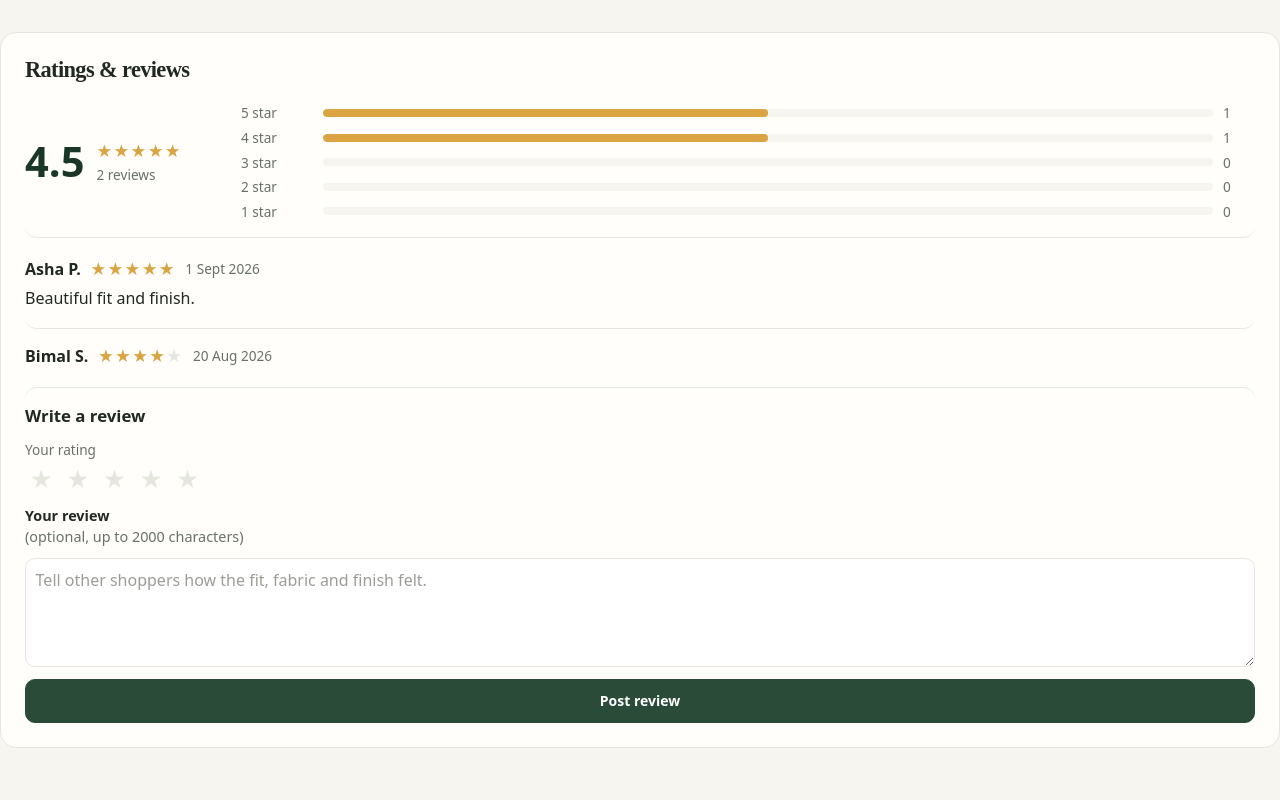
it: ProductReviewsSection › submits the rating and trimmed comment for a signed-in customer
Expected: the text "Asha P." is shown, left=25, top=258, right=81, bottom=280
Step 1. Click the button named "5 stars" → (187, 479), box left=171, top=463, right=204, bottom=494
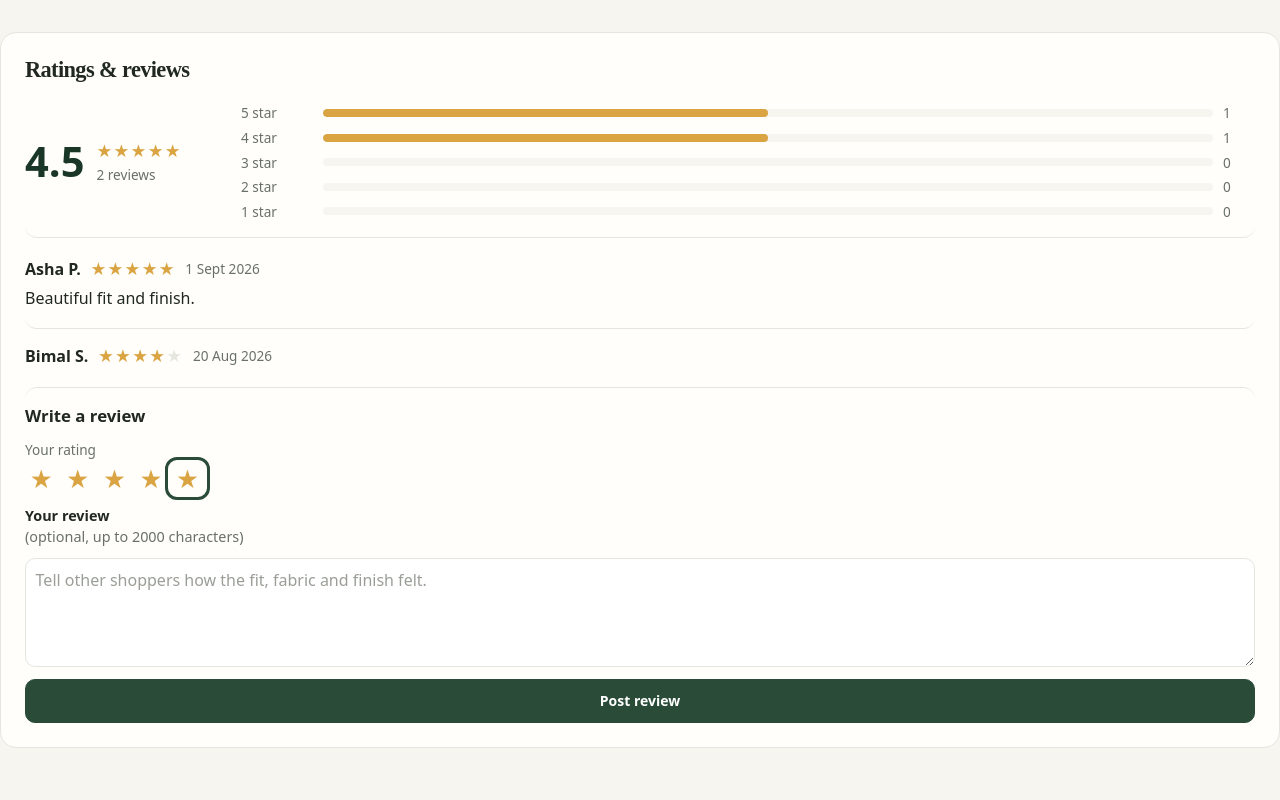
Step 2. Type "Great quality, true to size." into the text box labelled "Your review (optional, up to 2000 characters)" → (640, 613), box left=25, top=558, right=1255, bottom=667
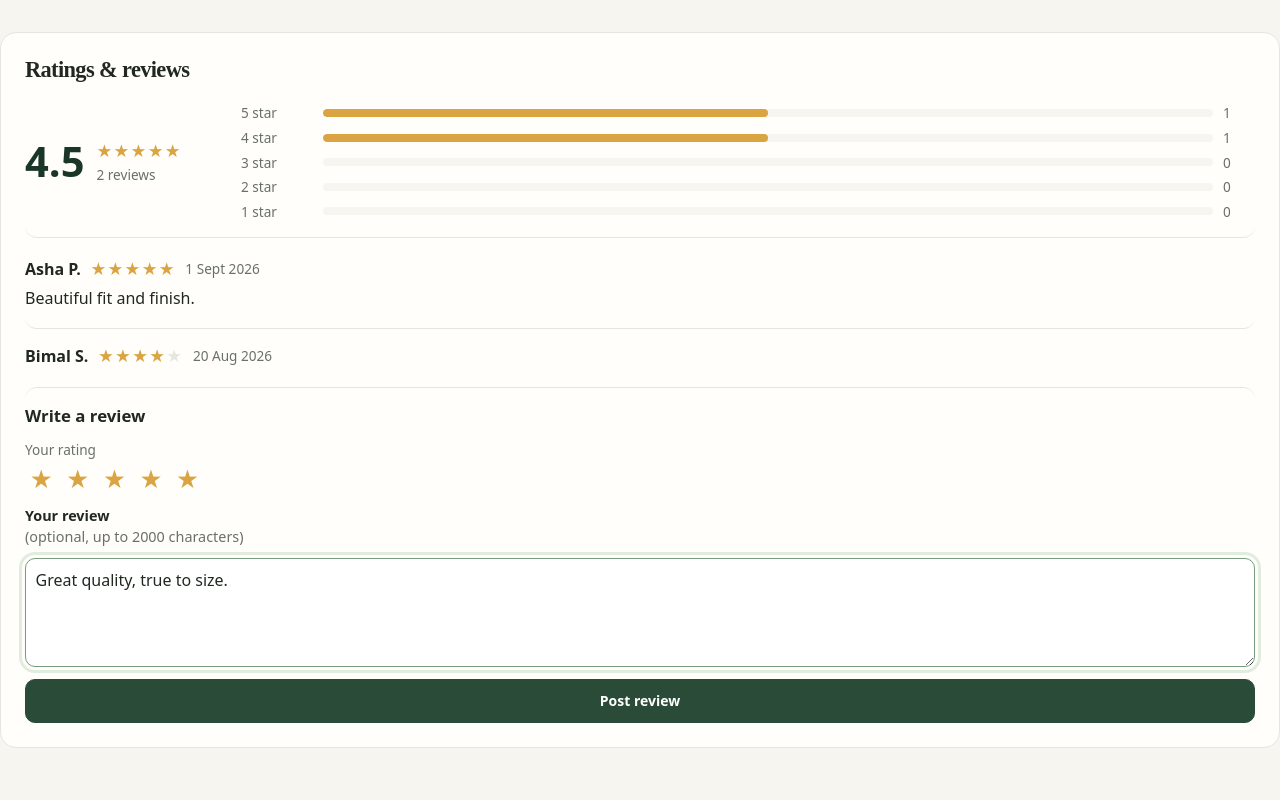
Step 3. Click the button "Post review" → (640, 701), box left=25, top=679, right=1255, bottom=723
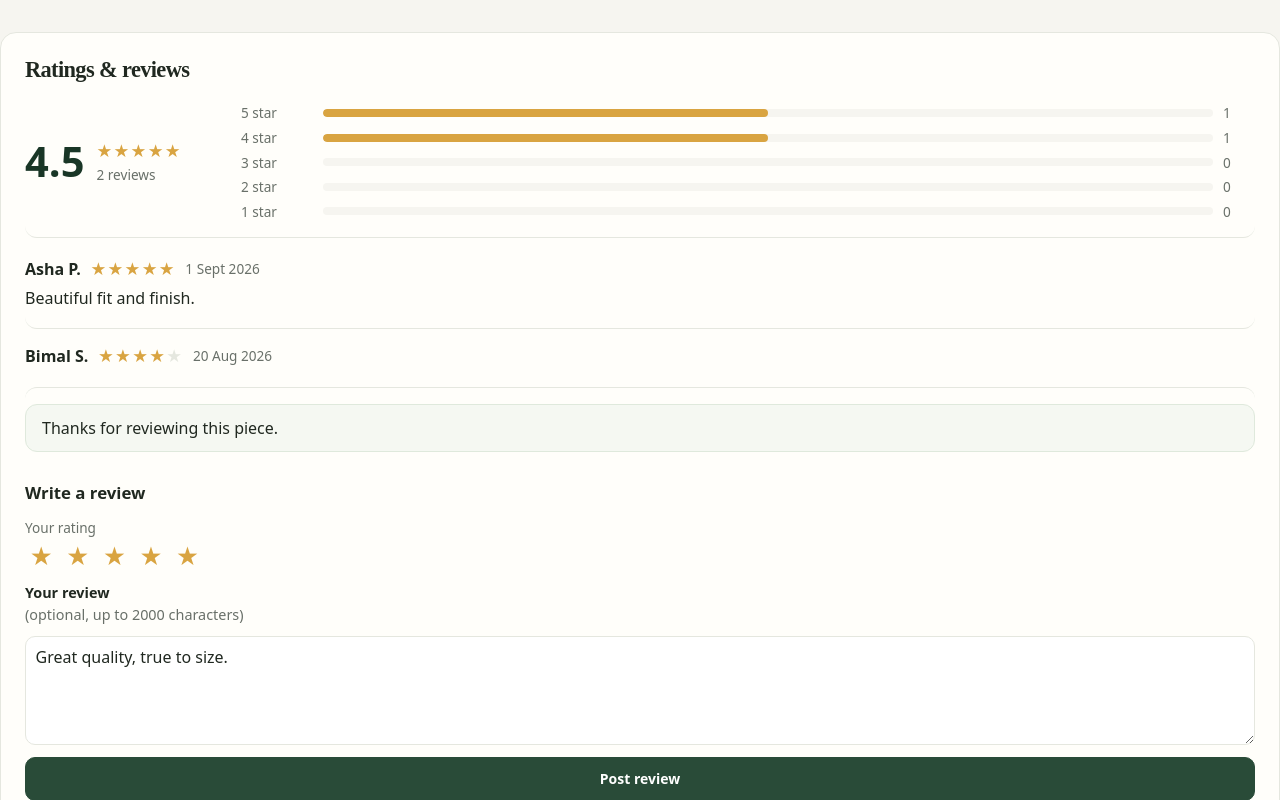
Expected: the text "Thanks for reviewing this piece." is shown, left=25, top=404, right=1255, bottom=452
